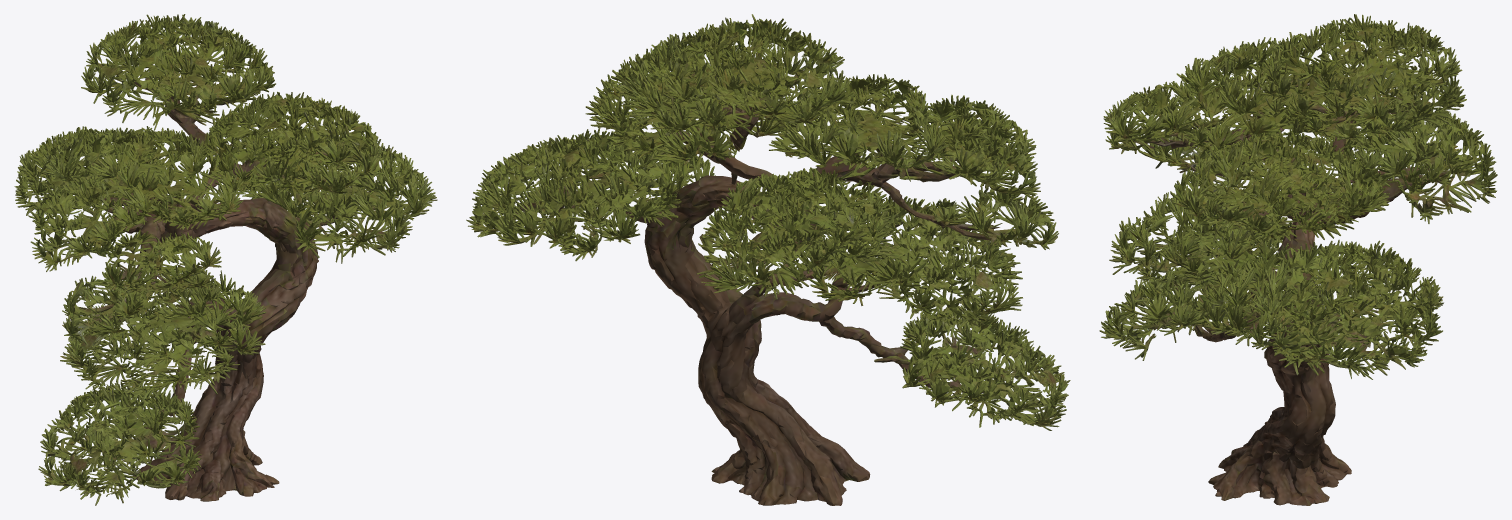
The model's file is lib_bonsai.hd.glb.
3 renders of one model, left to right at view 1: azimuth 30°, elevation 25°; view 2: azimuth 150°, elevation 25°; view 3: azimuth 270°, elevation 25°, orthographic. The views are drawn at different scales.
Visible parts, largest first — view 1: output_unwrapped; view 2: output_unwrapped; view 3: output_unwrapped.
Part boxes in pixels (x1,y1,x2,y2): output_unwrapped: (14,14,437,505); output_unwrapped: (466,14,1070,505); output_unwrapped: (1099,14,1497,505).
Bounding box in the file's own units: 2 × 1.81 × 1.45.
Materials: 1 (1 with a texture image).
